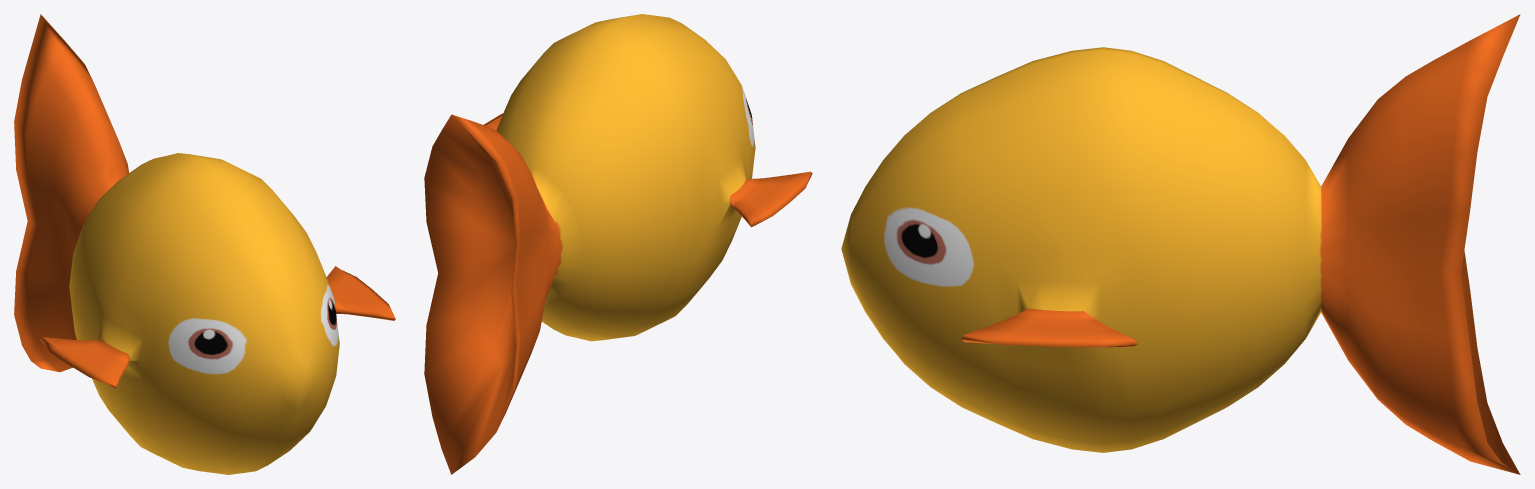
The model's file is fish1.fbx.
The picture shows the model from 3 angles, left to right: view 1: azimuth 30°, elevation 25°; view 2: azimuth 150°, elevation 25°; view 3: azimuth 270°, elevation 25°; orthographic projection. The views are drawn at different scales.
Parts seen in each view (by area): view 1: fish; view 2: fish; view 3: fish.
Part boxes in pixels (x1,y1,x2,y2): fish: (14, 14, 395, 474); fish: (424, 14, 812, 474); fish: (841, 14, 1520, 474).
Bounding box in the file's own units: 12.22 × 13.48 × 18.
Materials: 1 (1 with a texture image).
